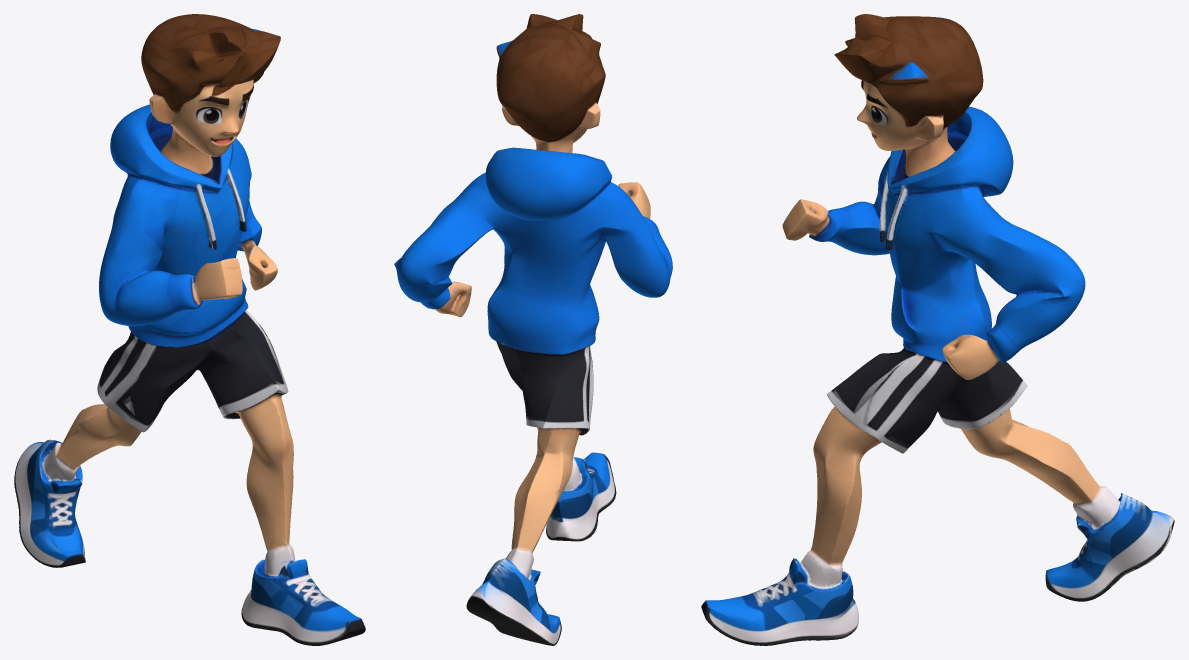
File: Meshy_AI_Blue_Hoodie_Runner_1006071116_texture.obj
The picture shows the model from 3 angles, left to right: view 1: azimuth 30°, elevation 25°; view 2: azimuth 150°, elevation 25°; view 3: azimuth 270°, elevation 25°; orthographic projection. The views are drawn at different scales.
Parts seen in each view (by area): view 1: Meshy_AI_Blue_Hoodie_Runner_1006071116_texture; view 2: Meshy_AI_Blue_Hoodie_Runner_1006071116_texture; view 3: Meshy_AI_Blue_Hoodie_Runner_1006071116_texture.
Part boxes in pixels (left/top/right/bottom): Meshy_AI_Blue_Hoodie_Runner_1006071116_texture: left=14, top=14, right=365, bottom=645; Meshy_AI_Blue_Hoodie_Runner_1006071116_texture: left=394, top=14, right=672, bottom=645; Meshy_AI_Blue_Hoodie_Runner_1006071116_texture: left=701, top=14, right=1174, bottom=645.
Bounding box in the file's own units: 0.7215 × 1.9 × 1.34.
Materials: 1 (1 with a texture image).
